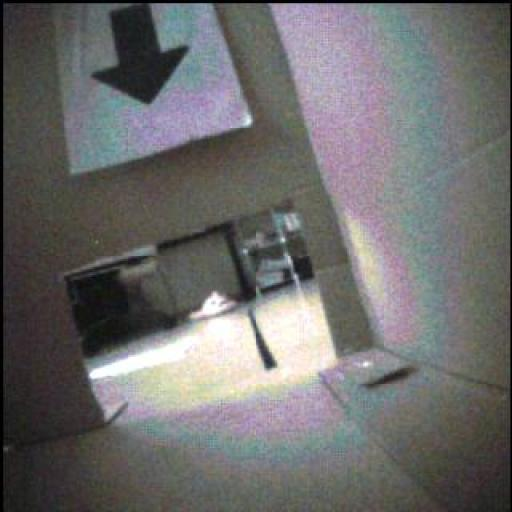arrow: (94, 6, 190, 105)
